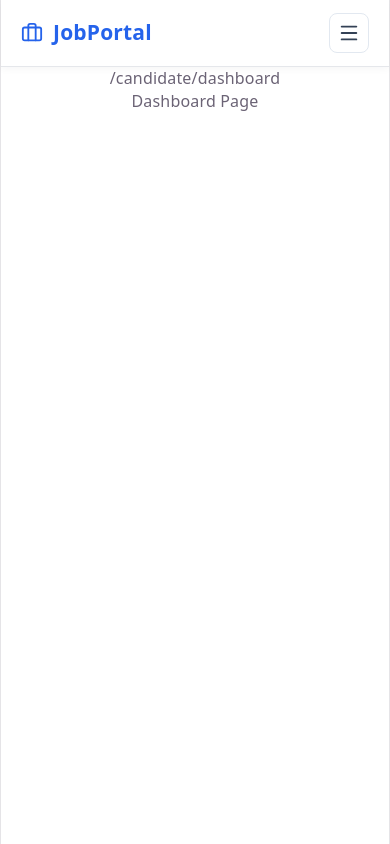
Test: CandidateNavbar › closes the mobile menu when toggled again
Click the button named "toggle navigation" at (349, 33), box [329,13,369,53]
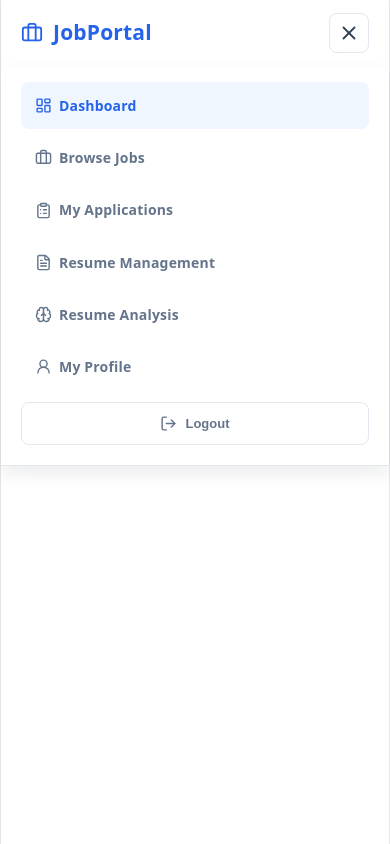
Click the button named "toggle navigation" at (349, 33), box [329,13,369,53]
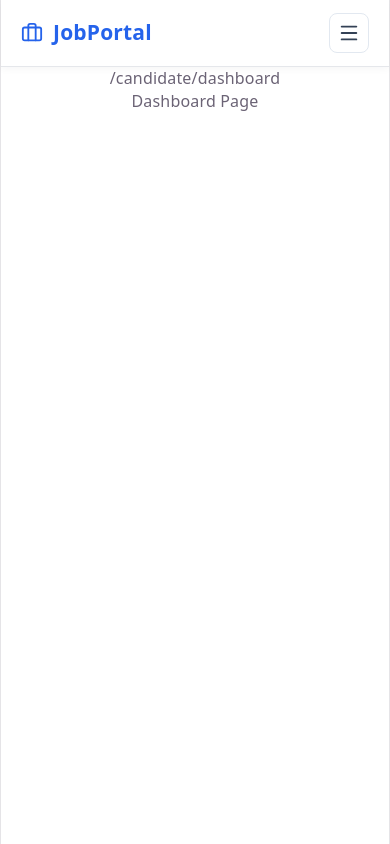
Expected: the button named "toggle navigation" is collapsed, [329,13,369,53]
